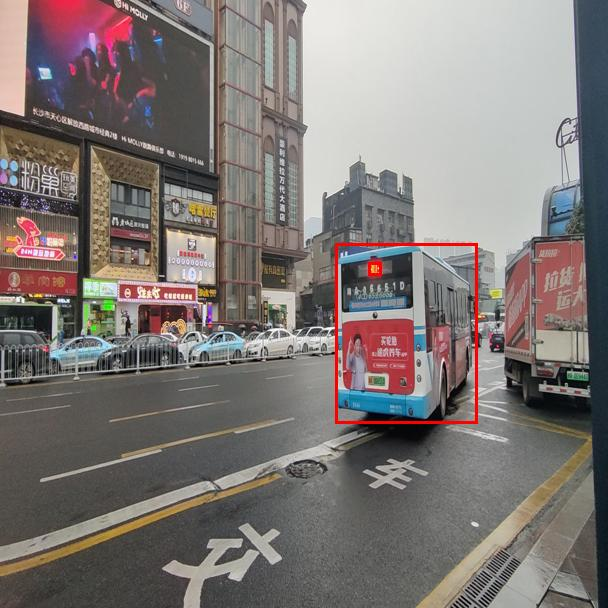bus: (335, 243, 477, 423)
screen: (368, 262, 381, 275)
